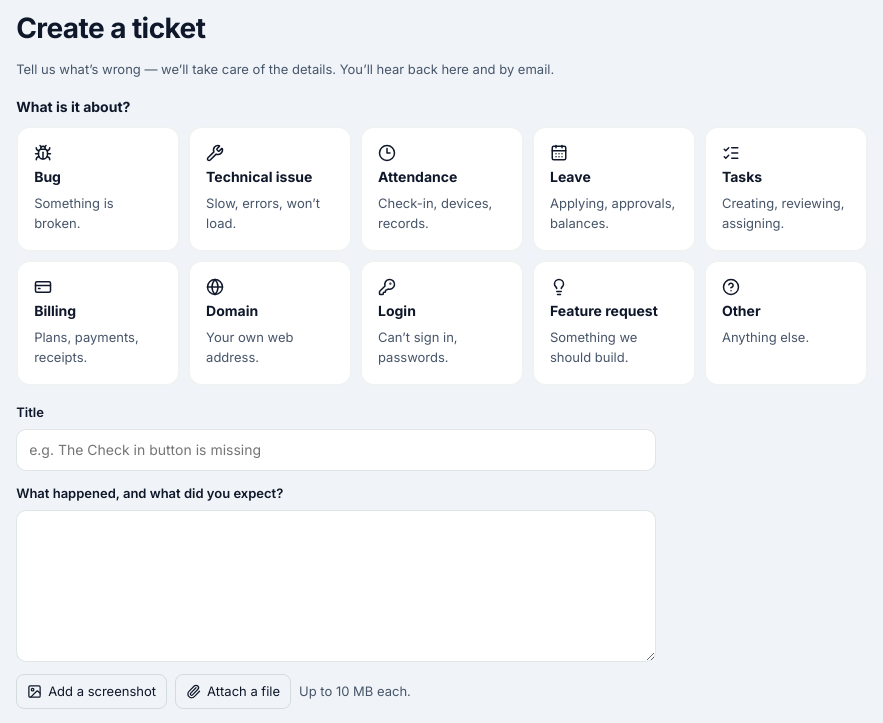
Scenario: Create ticket › offers Knowledge Base articles that match the title before sending
Type "apply for leave" into the field labelled "Title" at (336, 450), box [16,429,656,471]
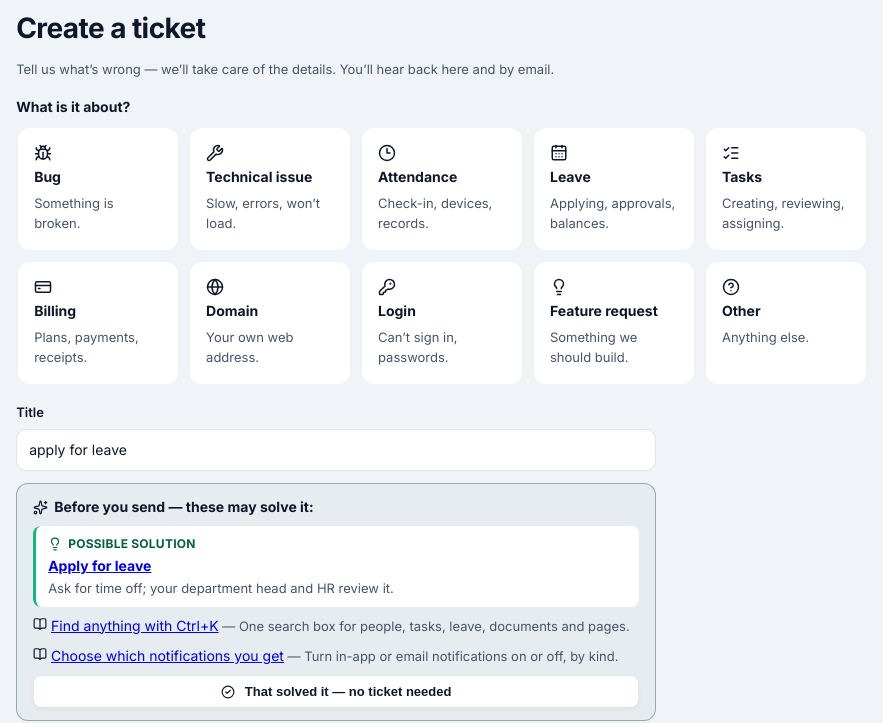
Result: the link "Apply for leave" is shown at [48,558,151,574]
